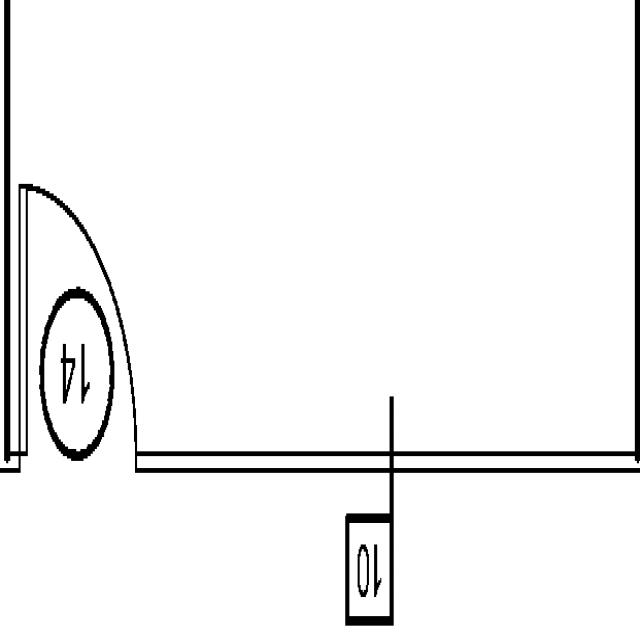Doors: (16, 177, 142, 481)
